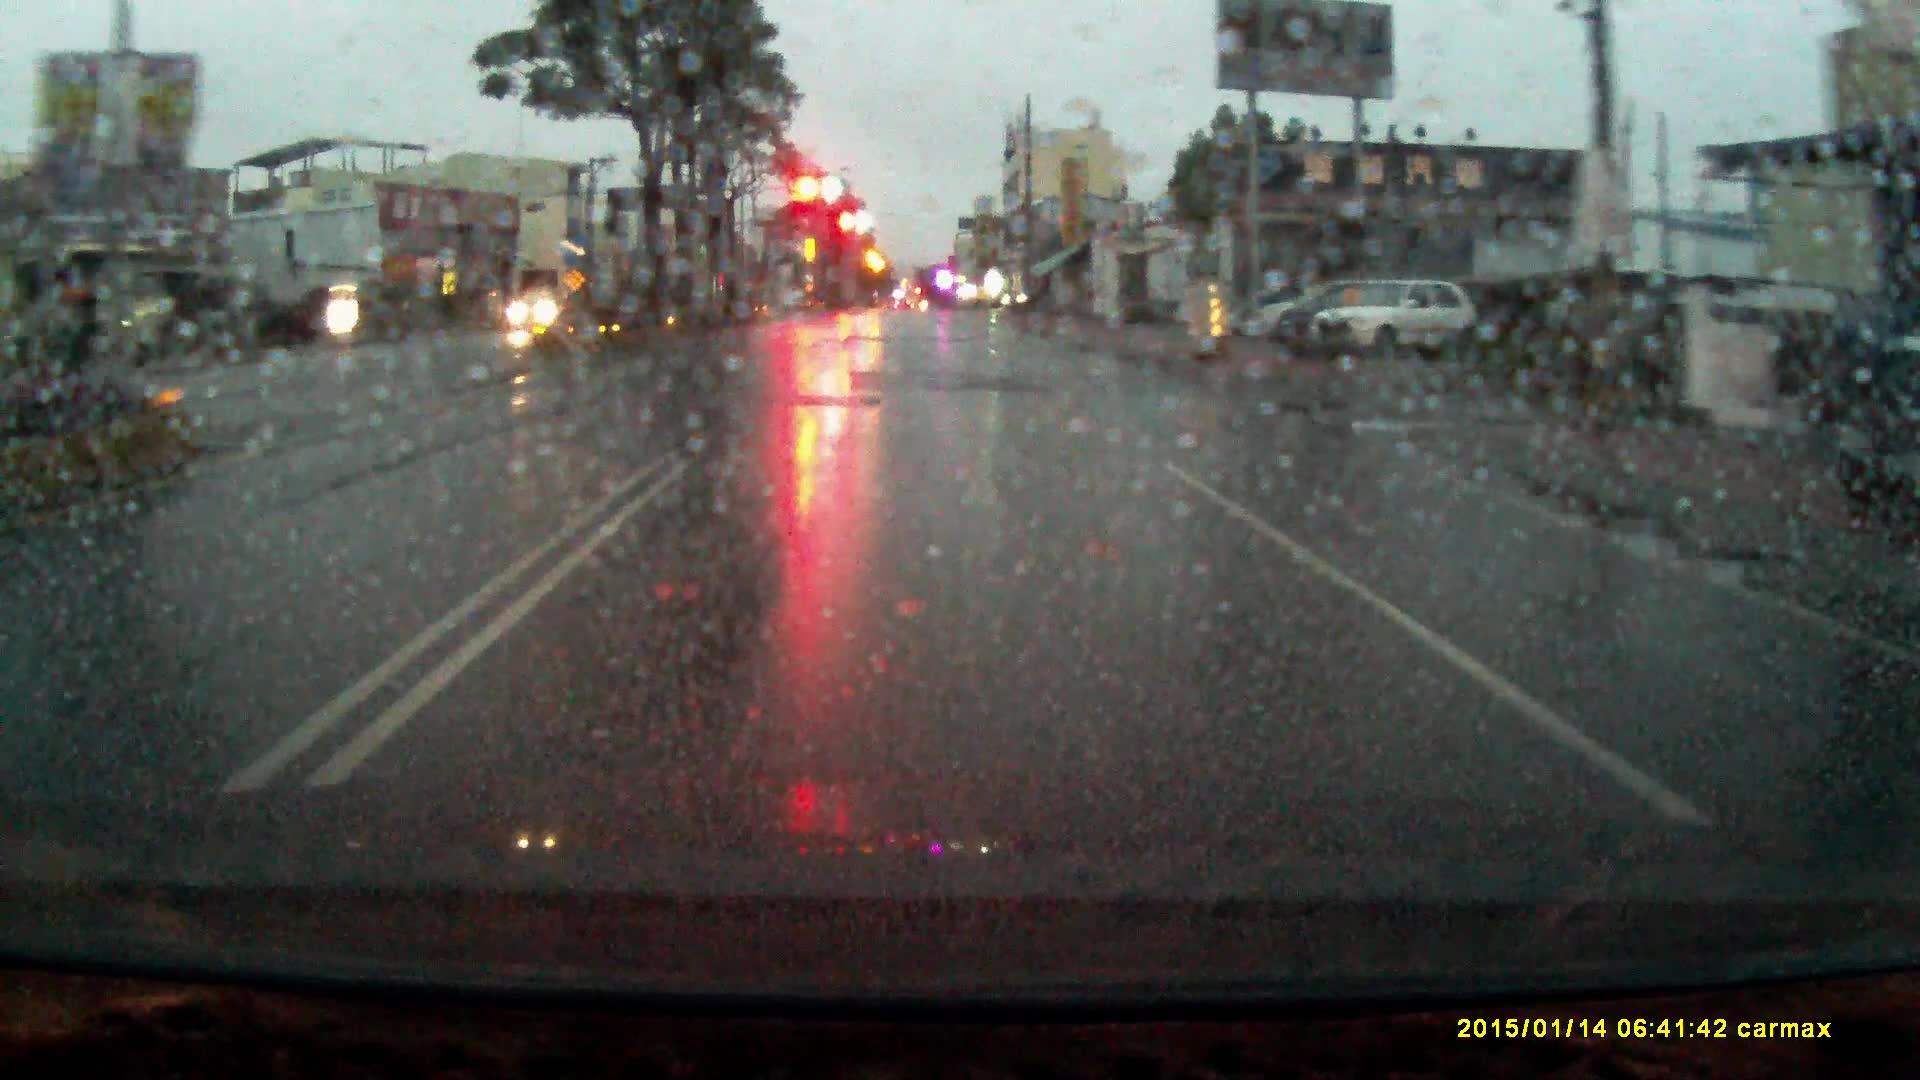vehicle: (1305, 284, 1482, 361), (1273, 280, 1414, 351), (1244, 282, 1358, 340), (508, 294, 584, 338), (1002, 284, 1054, 318)
